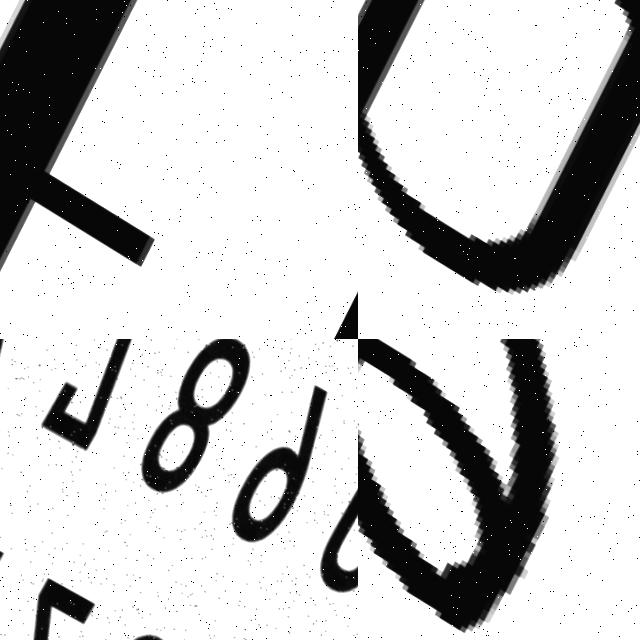0: (261, 376, 358, 635)
2: (0, 527, 127, 640)
3: (2, 581, 210, 640)
6: (0, 339, 121, 473)
7: (0, 339, 200, 500)
8: (83, 339, 291, 543)
9: (358, 339, 640, 640), (174, 339, 358, 589)
H: (358, 0, 640, 286)
T: (0, 0, 358, 339)
